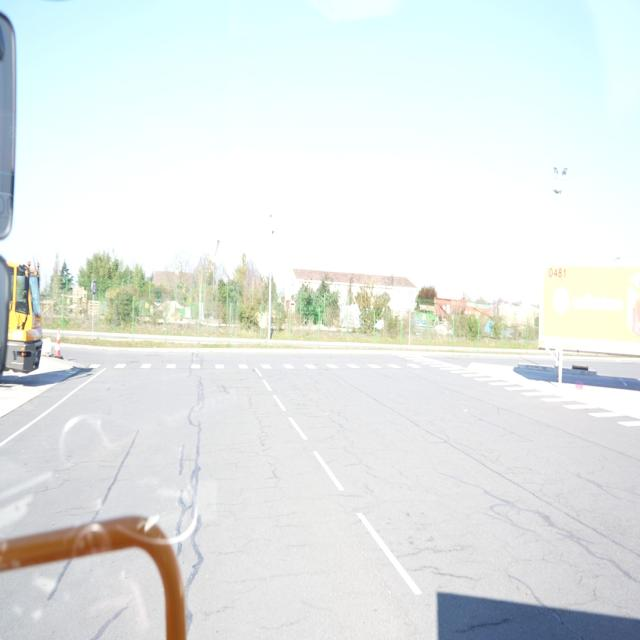Code: (545, 263, 570, 282)
